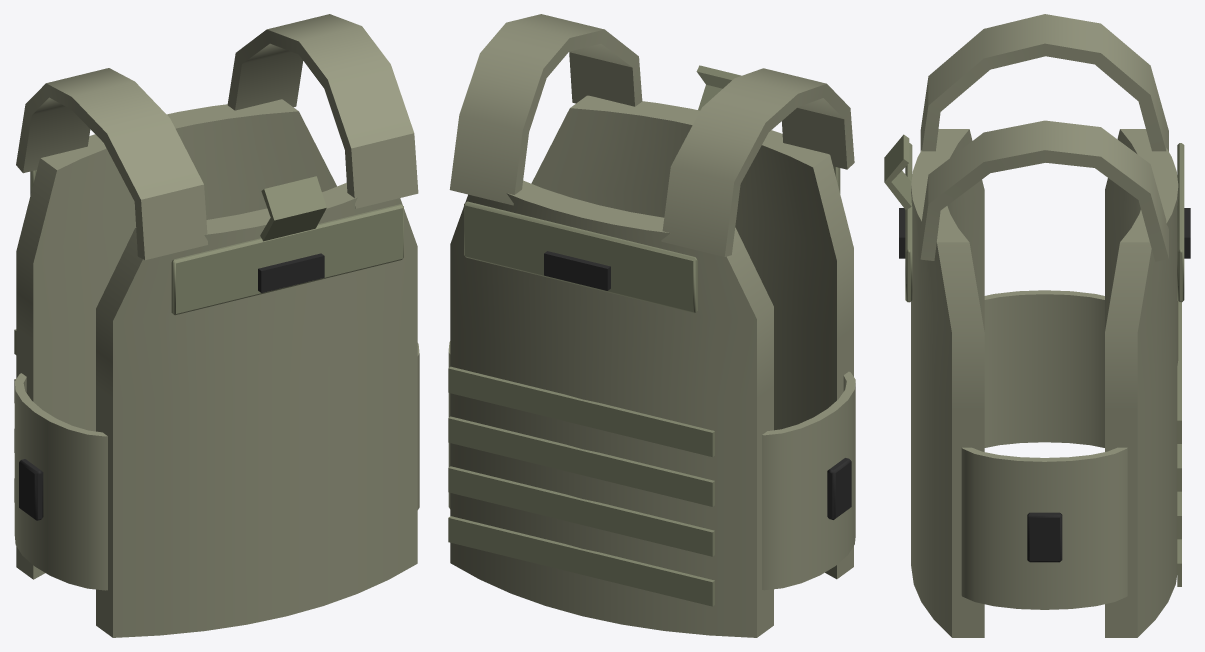
The model's file is vest.glb.
3 renders of one model, left to right at view 1: azimuth 30°, elevation 25°; view 2: azimuth 150°, elevation 25°; view 3: azimuth 270°, elevation 25°, orthographic. The views are drawn at different scales.
Parts seen in each view (by area): view 1: vest; view 2: vest; view 3: vest.
Boxes of the visible parts, x1,y1,x2,y2 form: vest: [14, 14, 419, 637]; vest: [448, 14, 855, 637]; vest: [884, 14, 1190, 637].
Size of what is drawn, in the model's own units: 0.362 by 0.458 by 0.2625.
